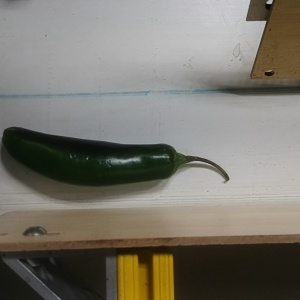Cut Point: (156, 142, 191, 178)
